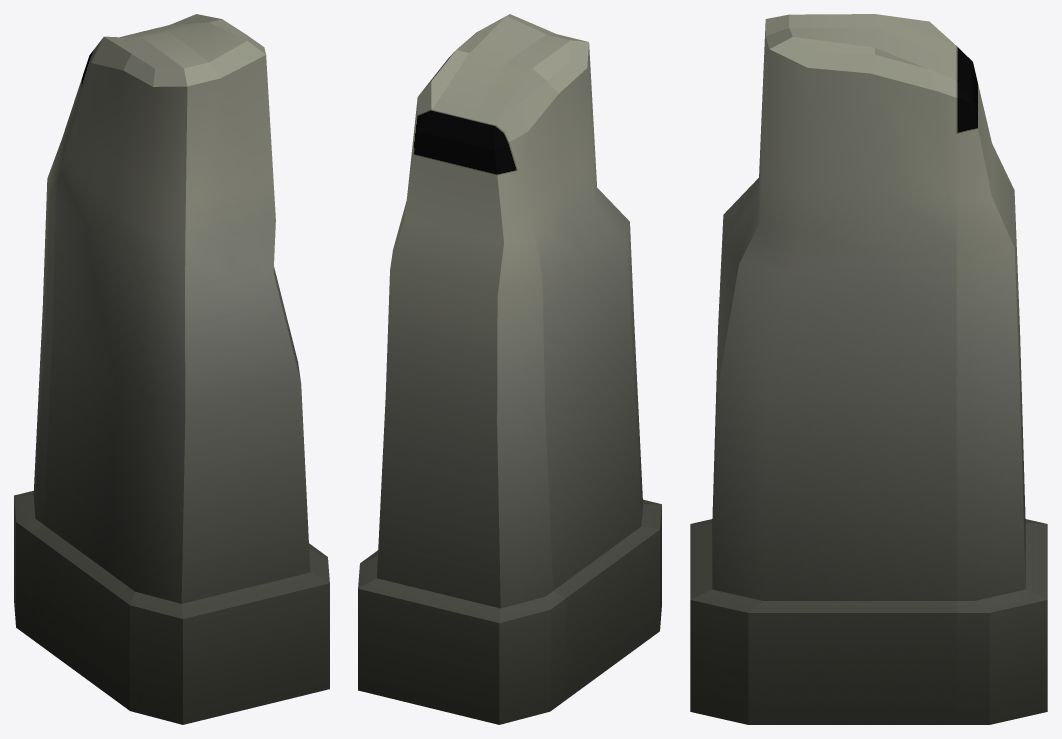
File: sciRuin04.fbx
3 views of the same model, side by side, from view 1: azimuth 30°, elevation 25°; view 2: azimuth 150°, elevation 25°; view 3: azimuth 270°, elevation 25° (orthographic). The views are drawn at different scales.
Parts seen in each view (by area): view 1: sciRuin04; view 2: sciRuin04; view 3: sciRuin04.
Part boxes in pixels (box(x1,y1,x2,y2)): sciRuin04: box(14, 14, 329, 724); sciRuin04: box(358, 14, 661, 724); sciRuin04: box(690, 14, 1047, 724).
Bounding box in the file's own units: 1.34 × 4.06 × 1.98.
